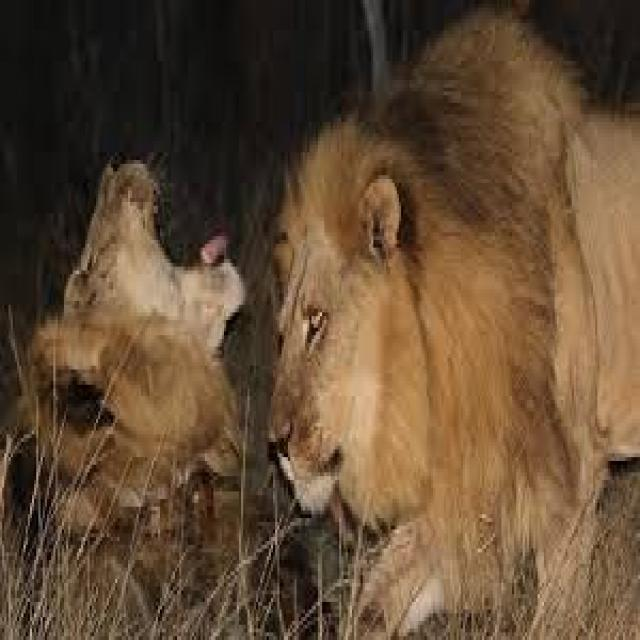Lion: (269, 8, 638, 636)
